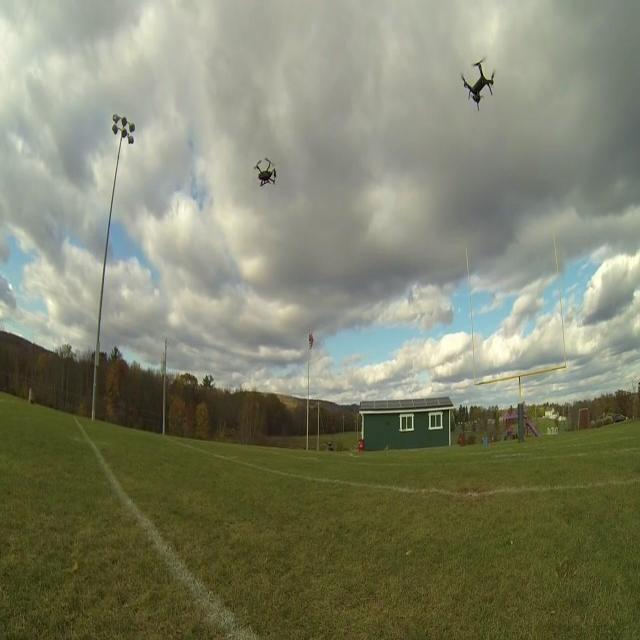drone: (456, 54, 499, 113), (253, 154, 279, 192)
